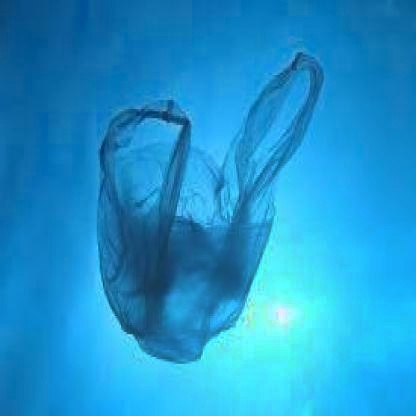pbag: (98, 52, 324, 366)
